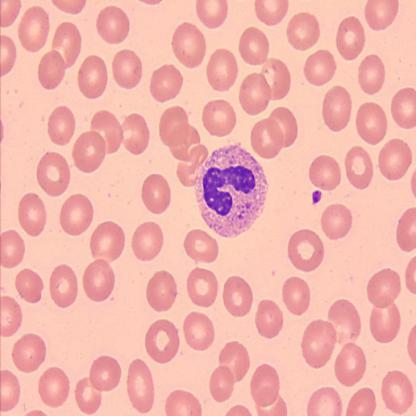Band Neutrophil: (192, 138, 271, 241)
